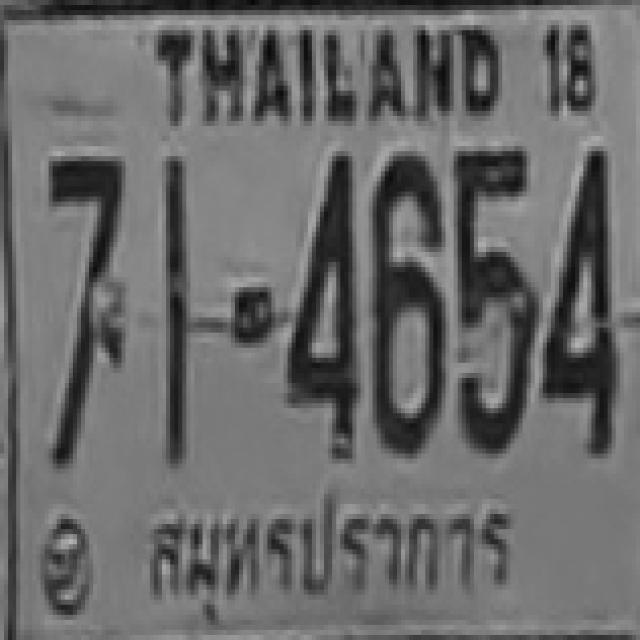1: (162, 156, 186, 388)
4: (538, 144, 612, 451), (284, 149, 356, 446)
6: (368, 151, 442, 449)
7: (45, 151, 122, 343)
SamutPrakan: (131, 479, 523, 631)
